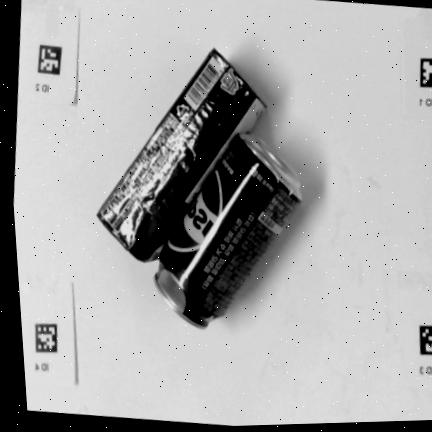can_pepsi_zero: (155, 134, 301, 328)
cracker_ace: (98, 49, 266, 261)
